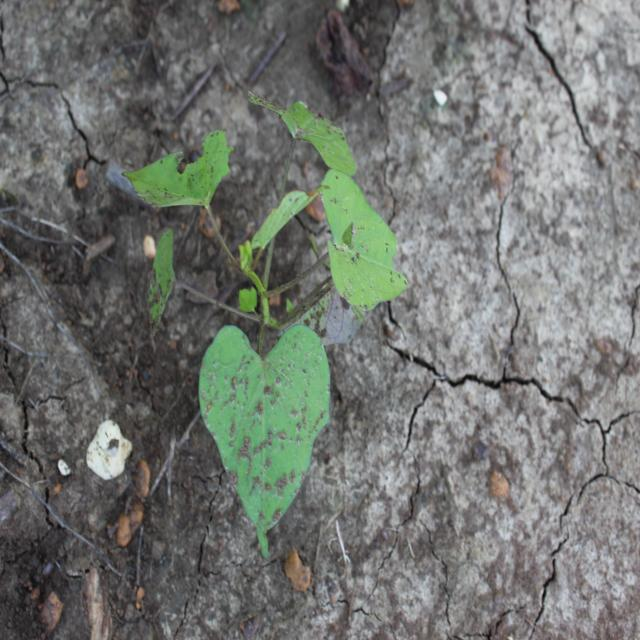MorningGlory: (118, 88, 411, 562)
